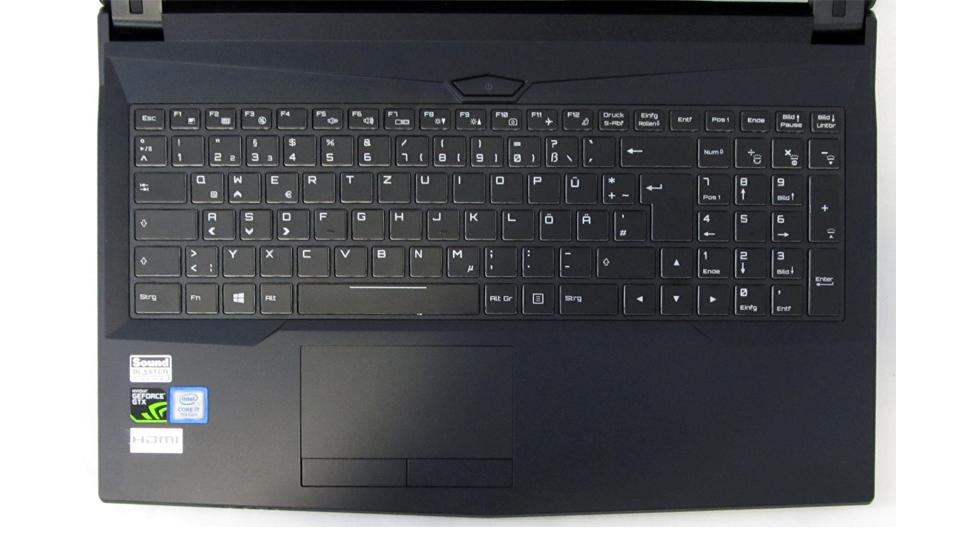0: (504, 132, 538, 165)
1: (168, 132, 202, 164)
2: (205, 131, 239, 164)
3: (242, 131, 276, 164)
4: (280, 132, 314, 164)
5: (317, 132, 351, 164)
6: (355, 131, 388, 164)
7: (392, 131, 426, 164)
8: (429, 132, 463, 165)
9: (467, 132, 501, 165)
a: (199, 205, 233, 238)
accent: (580, 133, 613, 165)
ae: (573, 206, 607, 239)
alt-left: (256, 279, 290, 312)
altgr-right: (481, 279, 516, 312)
b: (368, 242, 403, 275)
c: (293, 242, 328, 275)
caret: (130, 131, 164, 164)
comma: (481, 242, 515, 276)
d: (273, 205, 307, 238)
del: (617, 132, 691, 165)
e: (262, 168, 296, 201)
enter: (636, 169, 690, 240)
f: (311, 205, 345, 239)
g: (348, 205, 382, 238)
h: (386, 206, 420, 238)
hash: (611, 206, 644, 240)
i: (450, 169, 483, 201)
j: (424, 205, 457, 239)
k: (461, 205, 495, 238)
keyboard: (115, 95, 848, 324)
l: (499, 205, 532, 238)
less: (182, 241, 216, 275)
m: (443, 242, 477, 276)
minus: (556, 243, 589, 275)
n: (406, 242, 441, 276)
o: (487, 169, 520, 201)
oe: (536, 206, 569, 239)
p: (524, 169, 558, 201)
plus: (599, 169, 632, 202)
point: (519, 243, 552, 276)
q: (188, 168, 222, 201)
r: (299, 168, 333, 201)
s: (236, 205, 270, 238)
shift-left: (130, 242, 178, 274)
shift-lock: (131, 205, 195, 238)
shift-right: (593, 242, 653, 277)
space: (294, 279, 477, 314)
ss: (541, 132, 575, 165)
strg-left: (128, 278, 178, 312)
strg-right: (555, 279, 617, 314)
t: (337, 168, 371, 200)
tab: (131, 166, 183, 201)
u: (412, 168, 446, 201)
ue: (561, 169, 595, 202)
v: (331, 242, 365, 275)
w: (224, 167, 259, 201)
x: (257, 242, 291, 275)
y: (220, 242, 254, 275)
z: (374, 168, 408, 201)
